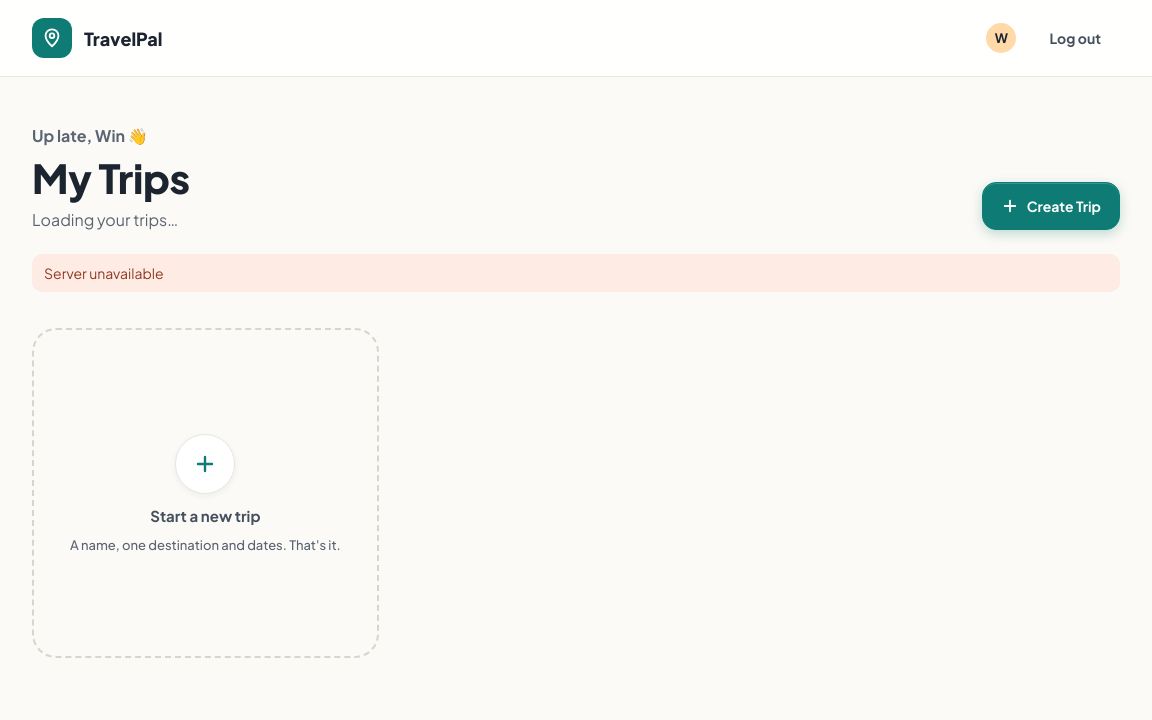
Test: shows create errors and load errors
The width and height of the screenshot is (1152, 720).
Expected: the text "Server unavailable" is shown, 32,254 -> 1120,292
Click the button "Start a new trip" at (205, 493), box 32,328 -> 379,658
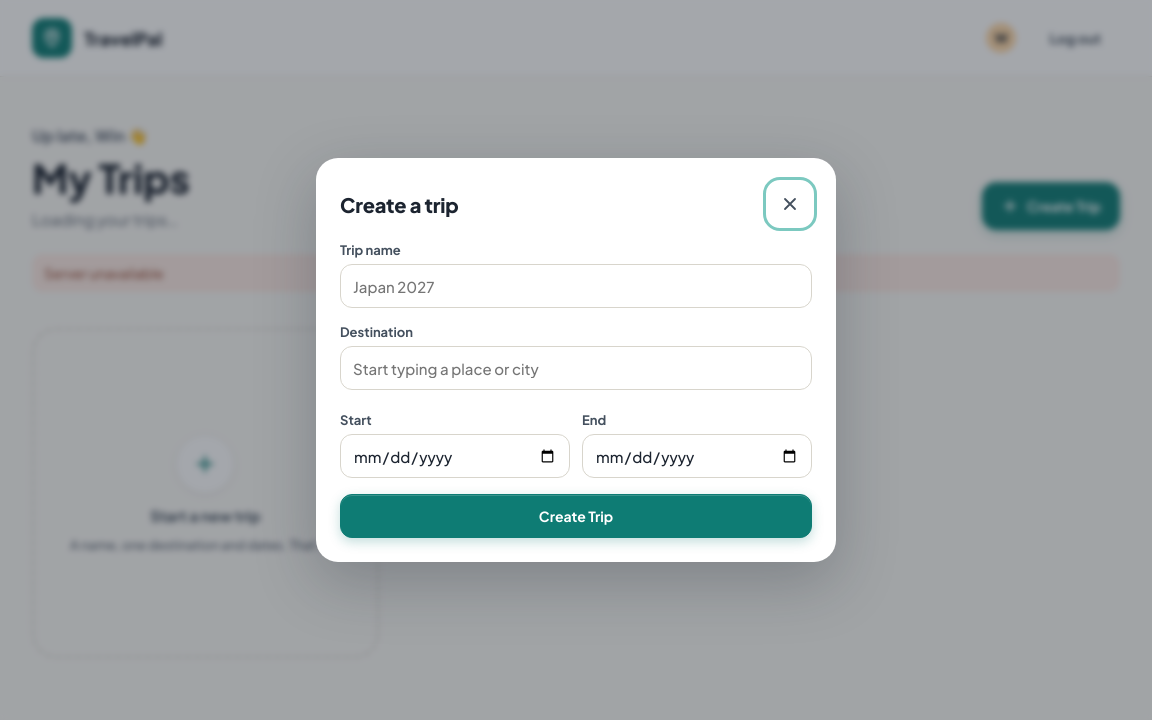
Type "X" into the field labelled "Trip name" at (576, 286), box 340,264 -> 812,308
Type "Nowhere" into the field labelled "Destination" at (576, 368), box 340,346 -> 812,390
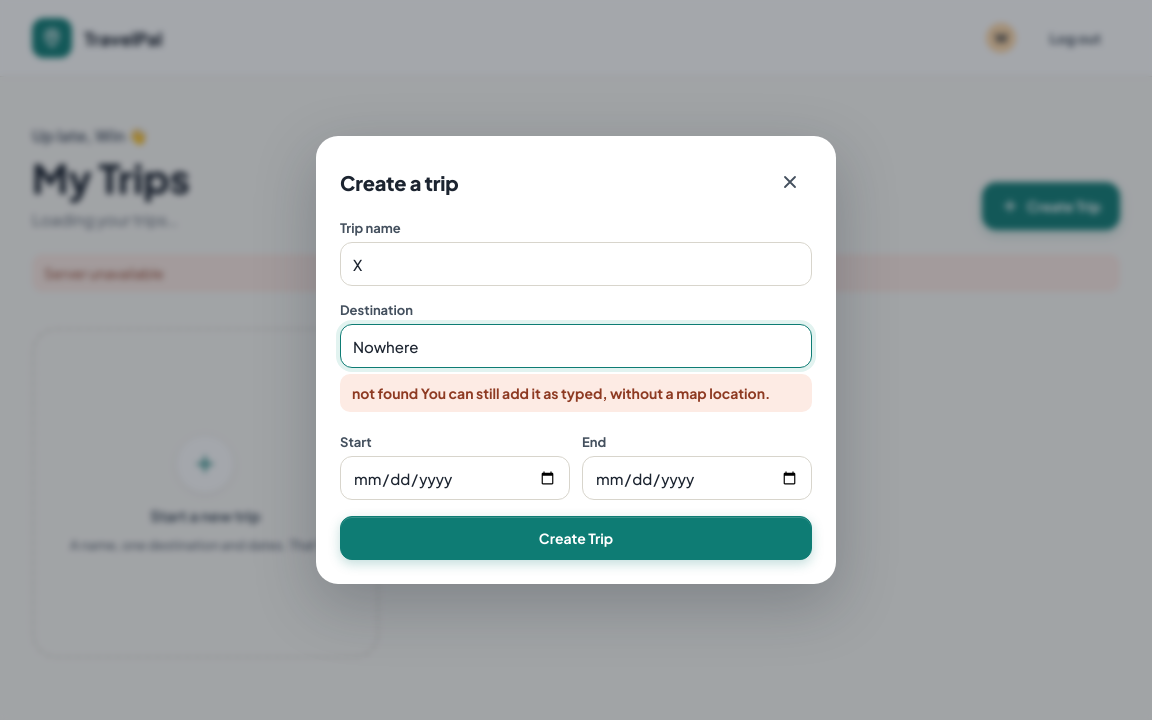
Now the text "not found You can still add it as typed, without a map location." is shown, box 340,374 -> 812,412
Type "2027-06-10" into the date field labelled "Start" at (455, 478), box 340,456 -> 570,500
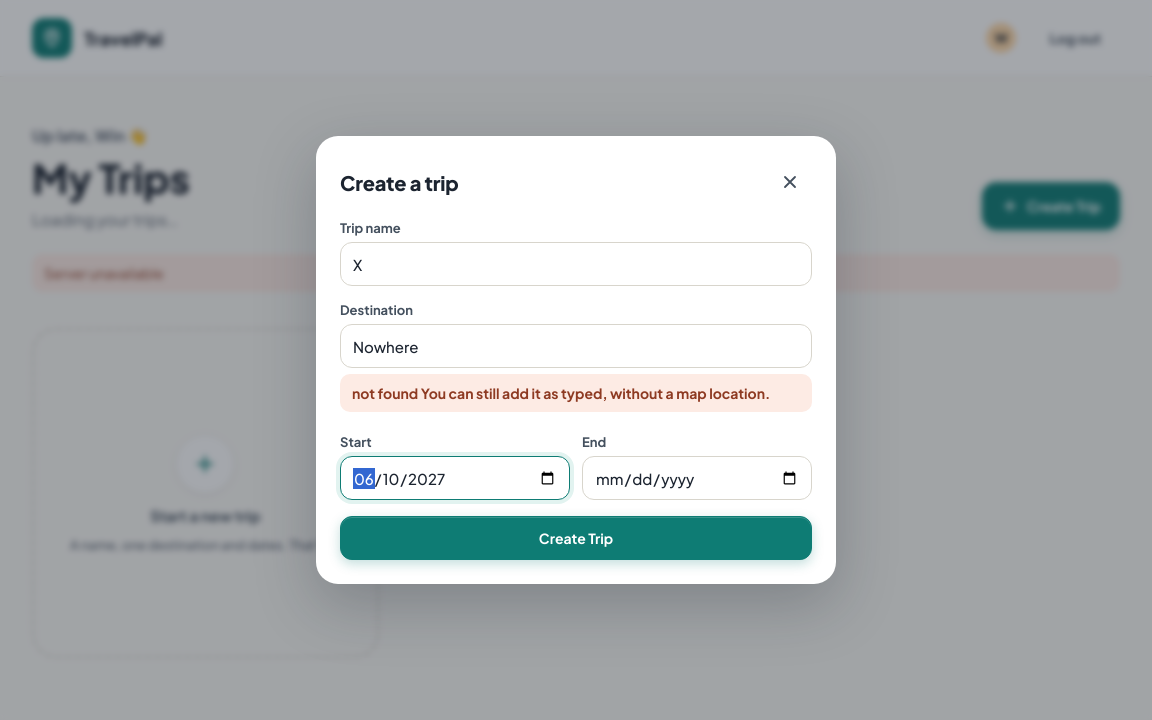
Type "2027-06-01" into the date field labelled "End" at (697, 478), box 582,456 -> 812,500
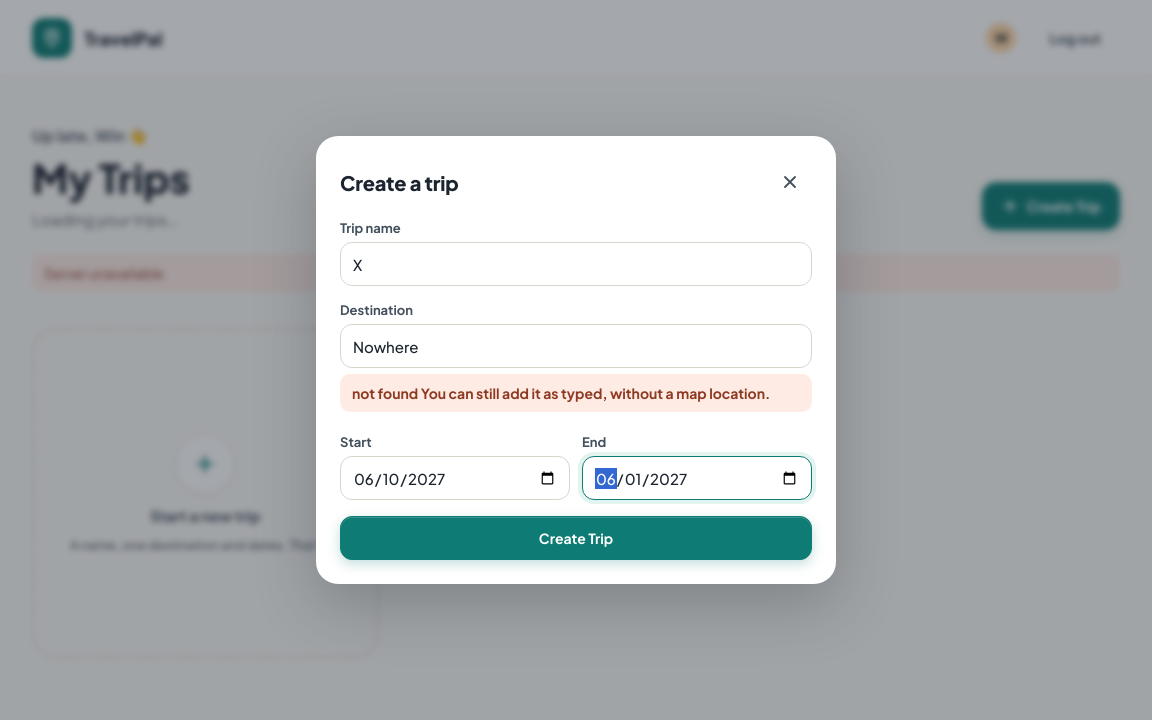
Click the button "Create Trip" at (576, 538), box 340,516 -> 812,560
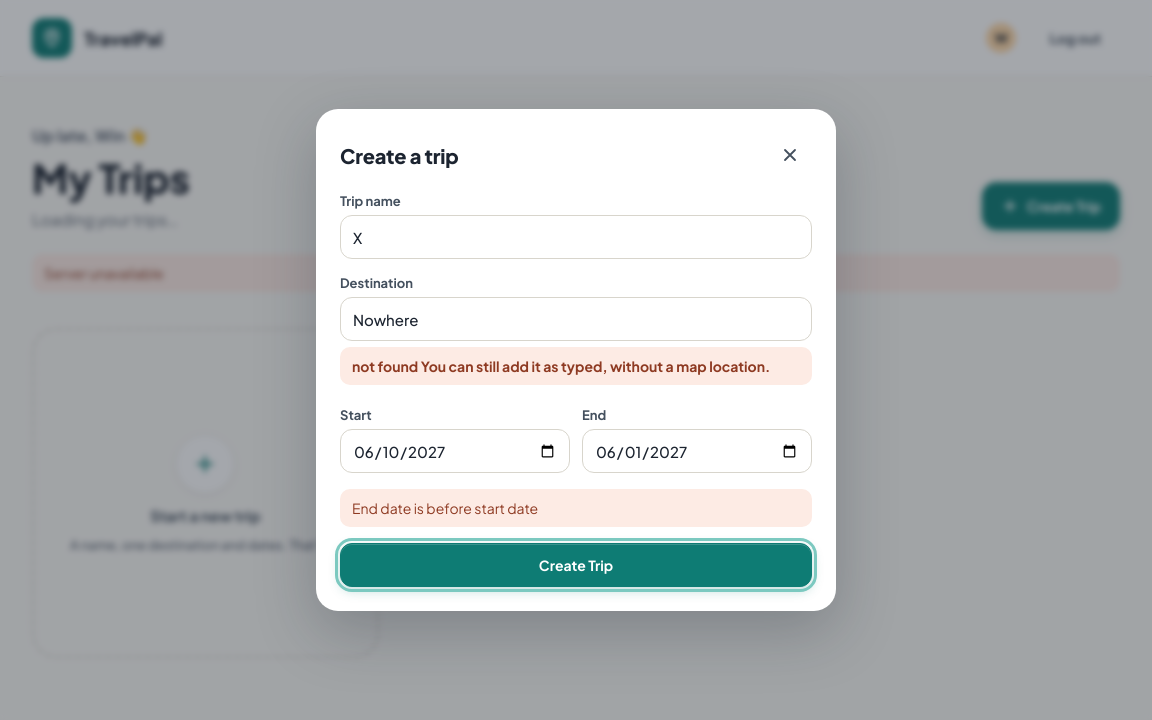
Click the button named "Close" at (790, 155), box 768,133 -> 812,177
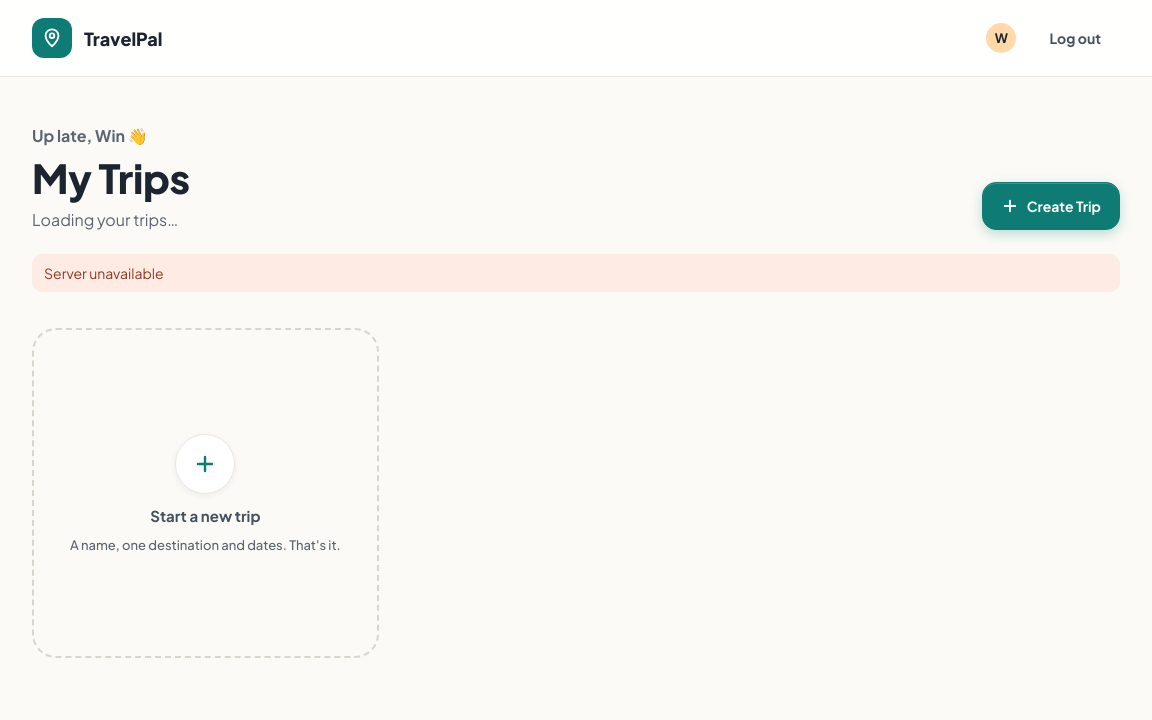
Now the label labelled "Trip name" is gone
